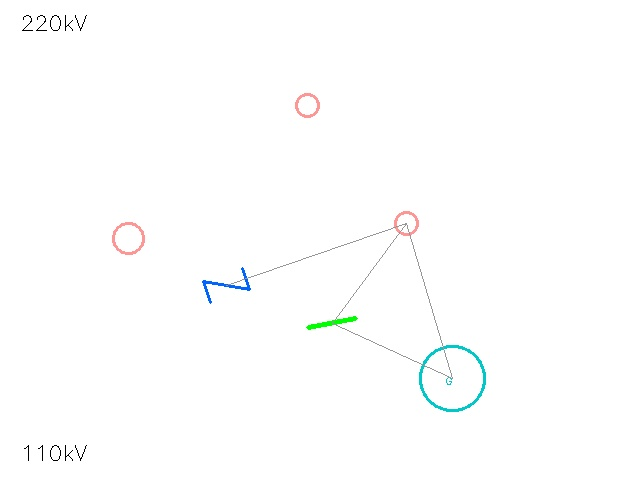busbar: (302, 293, 362, 353)
circuit_breaker: (203, 262, 249, 308)
disconnect_switch: (384, 201, 428, 245)
generator: (420, 346, 484, 410)
surge_arrester: (98, 208, 158, 268)
voltage_transformer: (285, 83, 329, 127)
